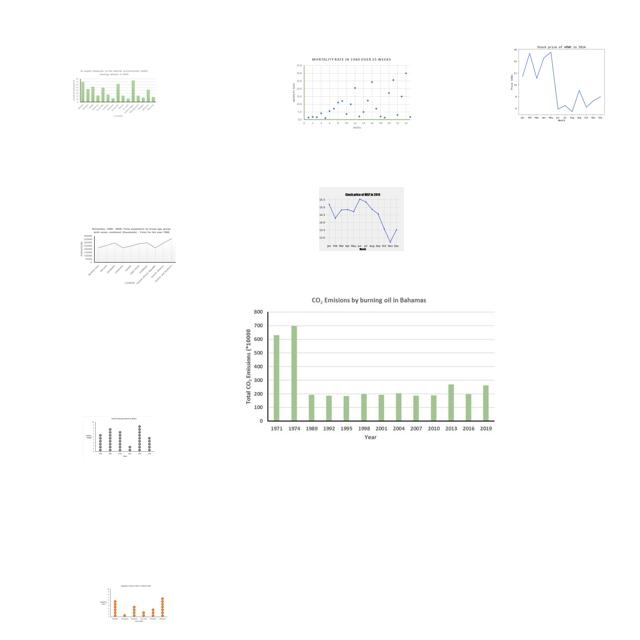Graph: (242, 293, 497, 442), (498, 39, 622, 124), (291, 56, 414, 131), (78, 226, 177, 286), (319, 187, 404, 251), (71, 68, 157, 118), (83, 416, 156, 459), (98, 584, 168, 624)
